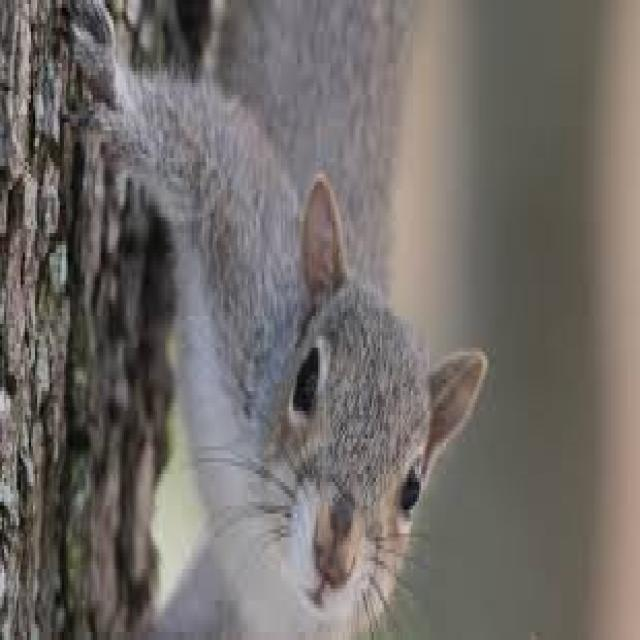Squirrel: (74, 19, 474, 640)
